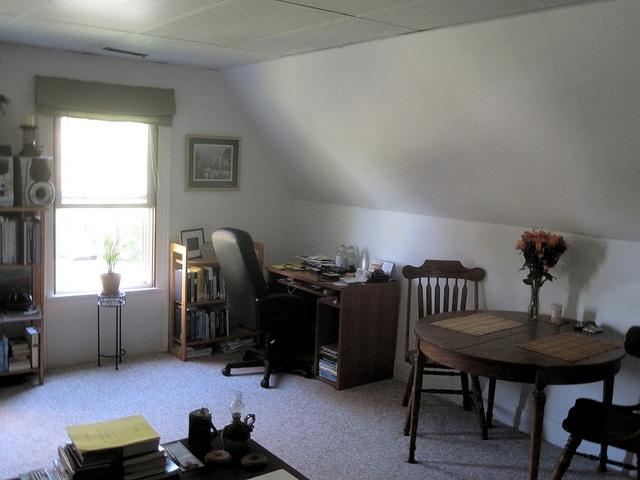Kursi: (400, 257, 490, 440), (211, 227, 313, 388)
Meja: (411, 307, 629, 386), (265, 262, 400, 308)
Rak: (166, 241, 231, 362)
